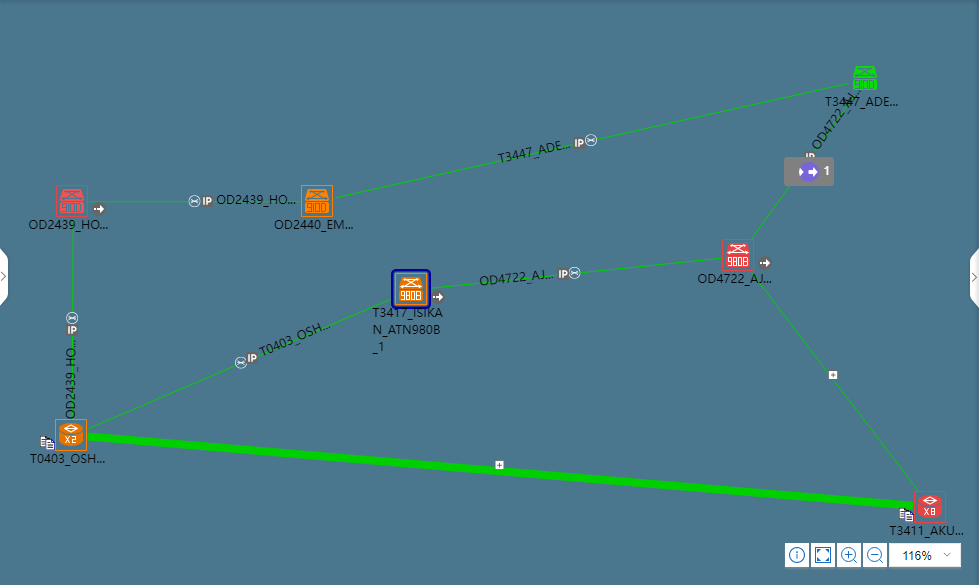ATN_Orange: (395, 277, 430, 306), (303, 185, 330, 221)
ATN_Red: (58, 185, 87, 221), (725, 240, 754, 268)
Link_Green: (333, 81, 846, 202), (211, 442, 912, 514), (113, 436, 846, 504), (89, 296, 393, 427), (750, 271, 916, 496), (750, 94, 855, 237), (431, 253, 724, 294), (89, 198, 300, 208), (750, 185, 789, 237)
Router_Red: (58, 418, 86, 453), (915, 491, 944, 519)
